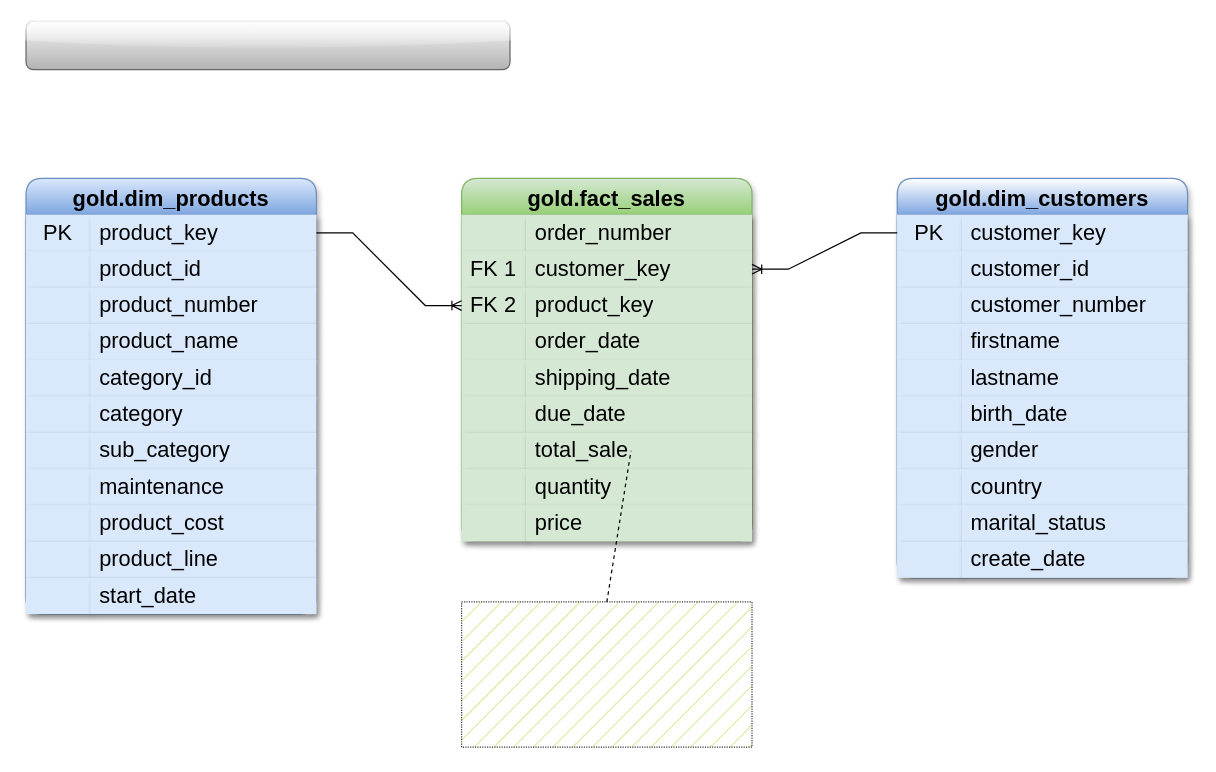
Some shapes in this 1216 by 772 pixel diagram are drawn without their labels. The centre of each missing label's shape, as x and y in pixels:
Sales calculation sales = quantity * price: the point at 606,674
Sales Data Mart: (Star schema): the point at 267,45
